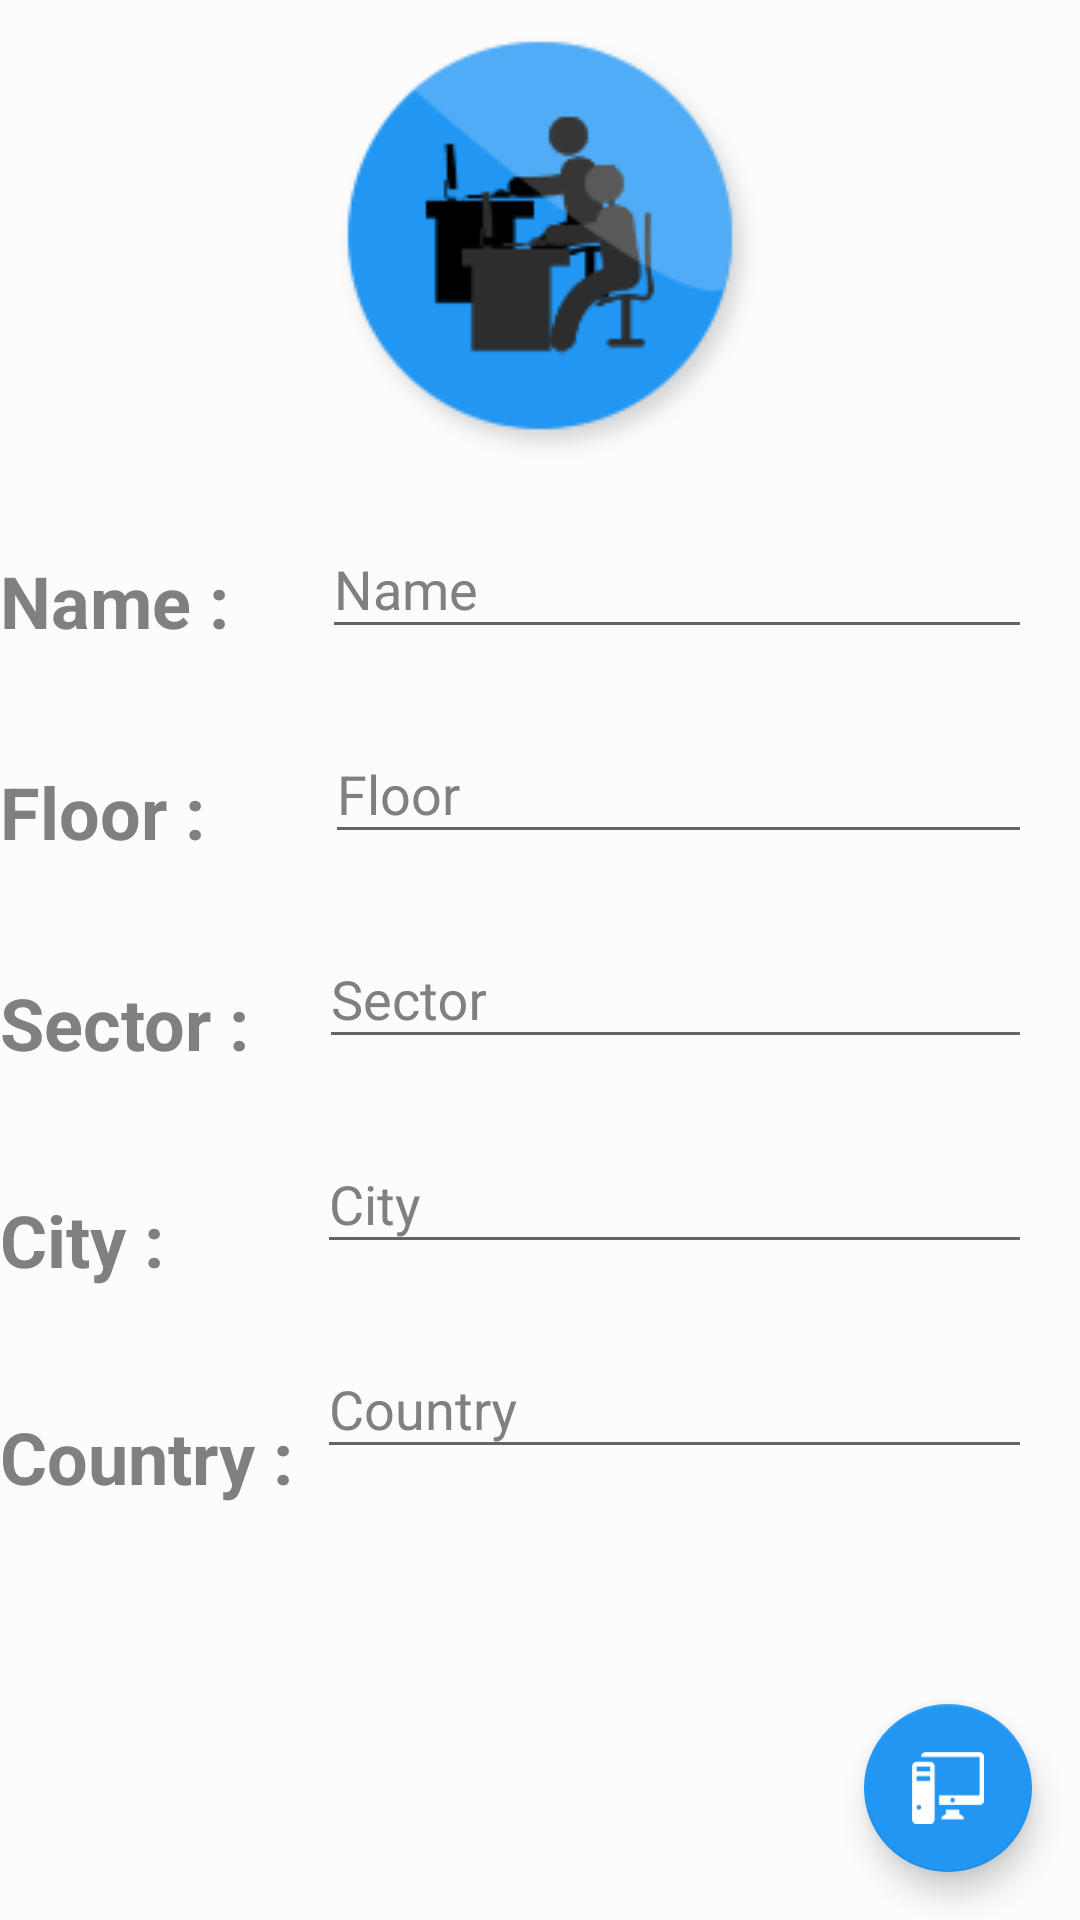

Named icons in this screenshot (1080 x 1920) and their centers, point (x, y):
workstation: point (948, 1788)
